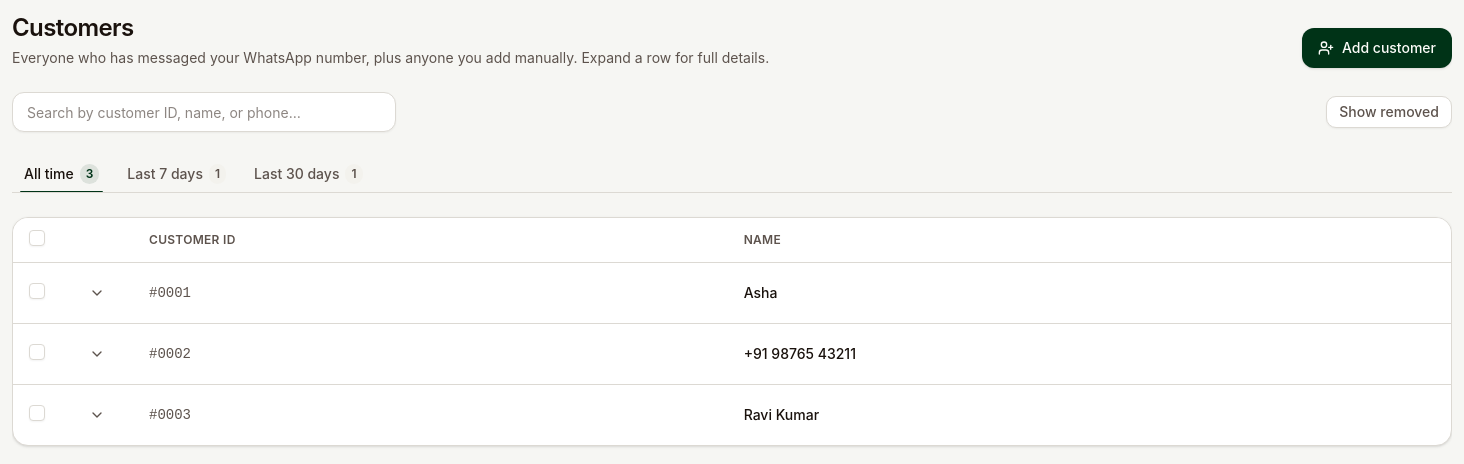
Test case: CustomersPage › filters by the last-7-days timeline tab
The width and height of the screenshot is (1464, 464).
Expected: the text "Asha" is shown, x1=728 y1=262 x2=1451 y2=323
Press the mouse on the tab "Last 7 days 1": (177, 174) x1=115 y1=156 x2=238 y2=192
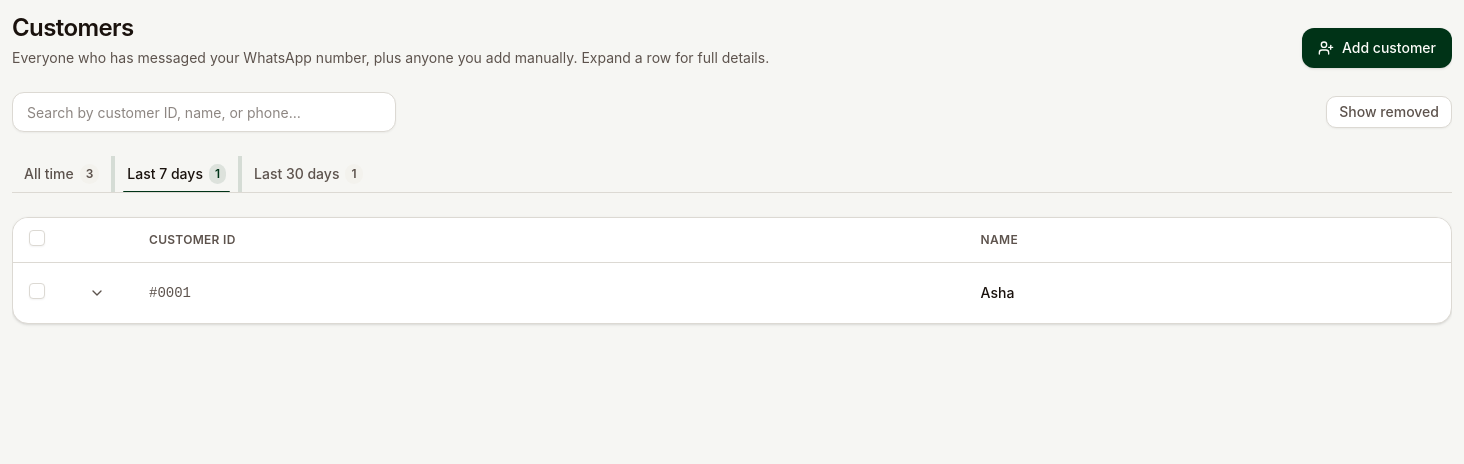
Expected: the text "Asha" is shown, x1=965 y1=262 x2=1451 y2=322
Expected: the text "Ravi Kumar" is gone
Expected: the text "+91 98765 43211" is gone
